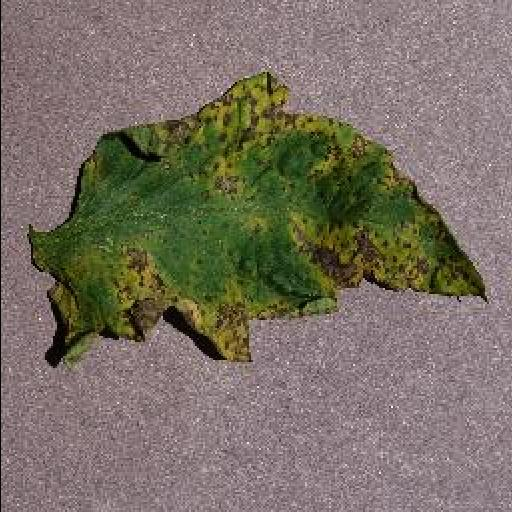disease_tomato: (31, 72, 485, 370)
